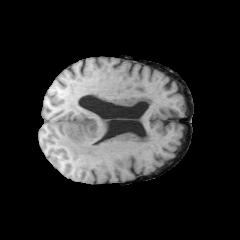glioma: (57, 112, 153, 170)
